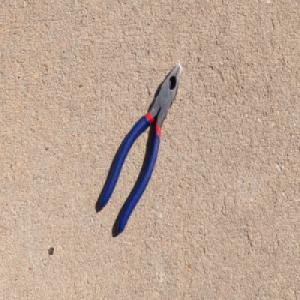Pliers: (99, 63, 182, 238)
